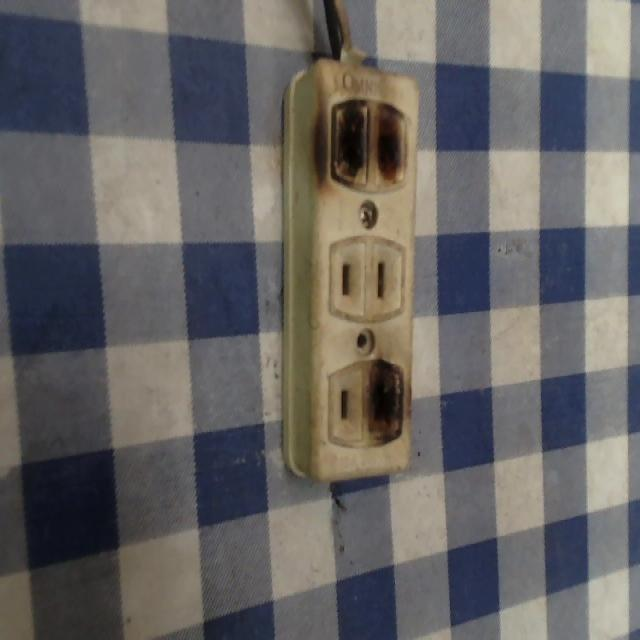-: (309, 81, 414, 198), (355, 359, 412, 445)
